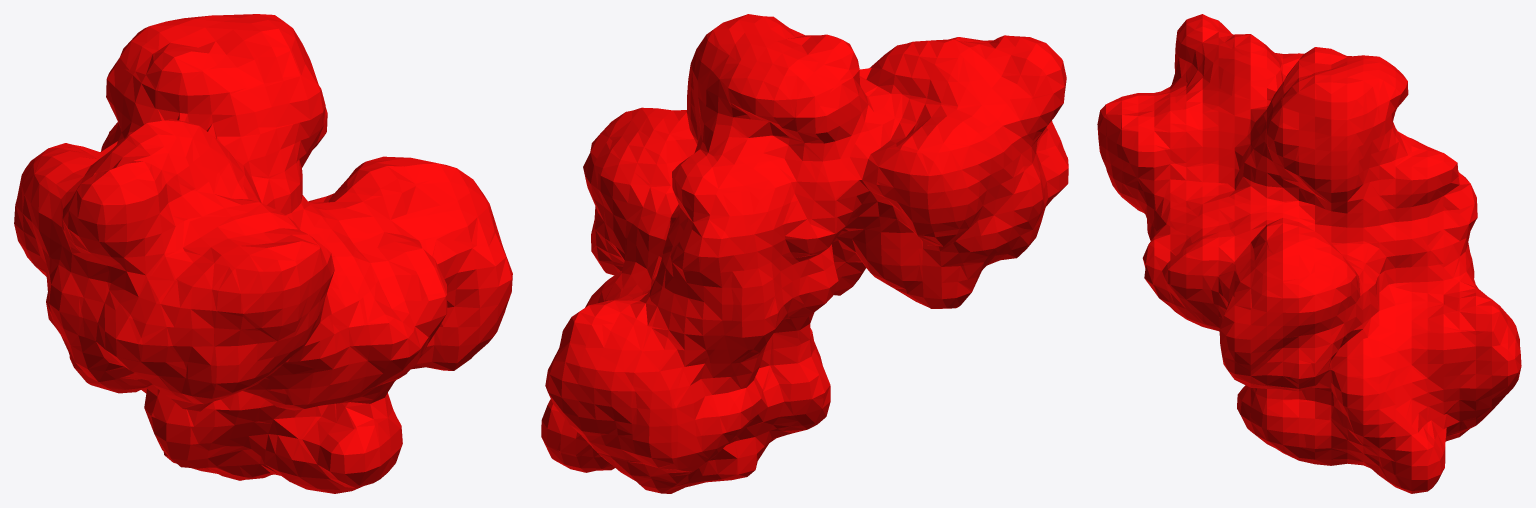
File: Sulfhydryl_oxidase_1_coarse.dae
3 views of the same model, side by side, from view 1: azimuth 30°, elevation 25°; view 2: azimuth 150°, elevation 25°; view 3: azimuth 270°, elevation 25° (orthographic). The views are drawn at different scales.
Parts seen in each view (by area): view 1: Sulfhydryl_oxidase_1; view 2: Sulfhydryl_oxidase_1; view 3: Sulfhydryl_oxidase_1.
Boxes of the visible parts, box(x1,y1,x2,y2) form: Sulfhydryl_oxidase_1: box(14, 14, 512, 493); Sulfhydryl_oxidase_1: box(541, 14, 1068, 493); Sulfhydryl_oxidase_1: box(1097, 14, 1521, 493).
Bounding box in the file's own units: 89.85 × 90.22 × 94.62.
